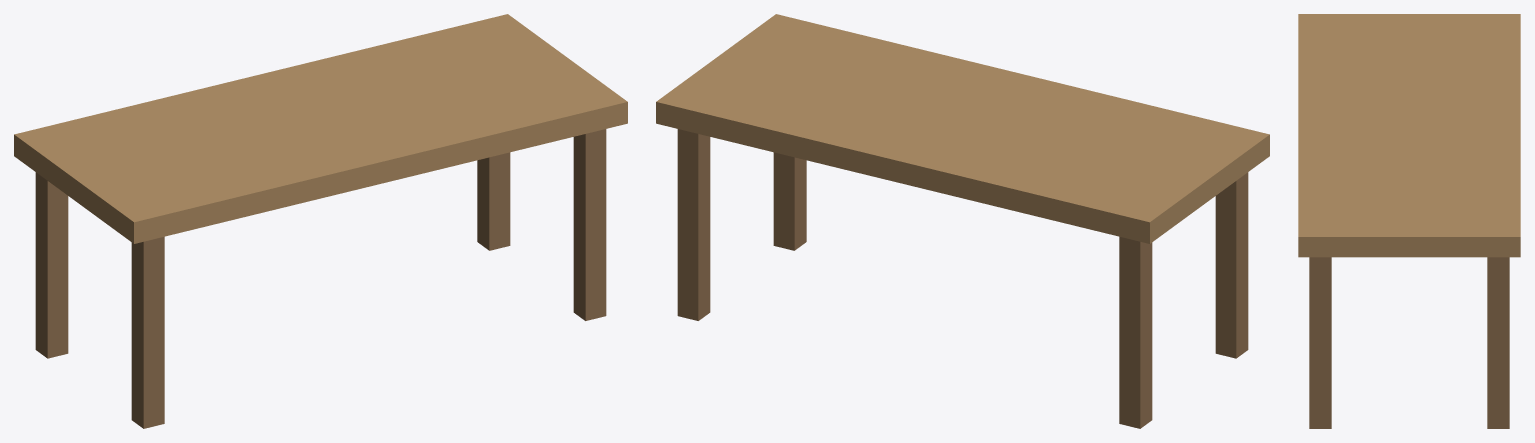
The model's file is table.glb.
3 renders of one model, left to right at view 1: azimuth 30°, elevation 25°; view 2: azimuth 150°, elevation 25°; view 3: azimuth 270°, elevation 25°, orthographic. The views are drawn at different scales.
Visible parts, largest first — view 1: Cube; view 2: Cube; view 3: Cube.
Boxes of the visible parts, x1,y1,x2,y2 form: Cube: (14,14,627,428); Cube: (656,14,1269,428); Cube: (1298,14,1520,428).
Bounding box in the file's own units: 1.9 × 0.79 × 0.8.
